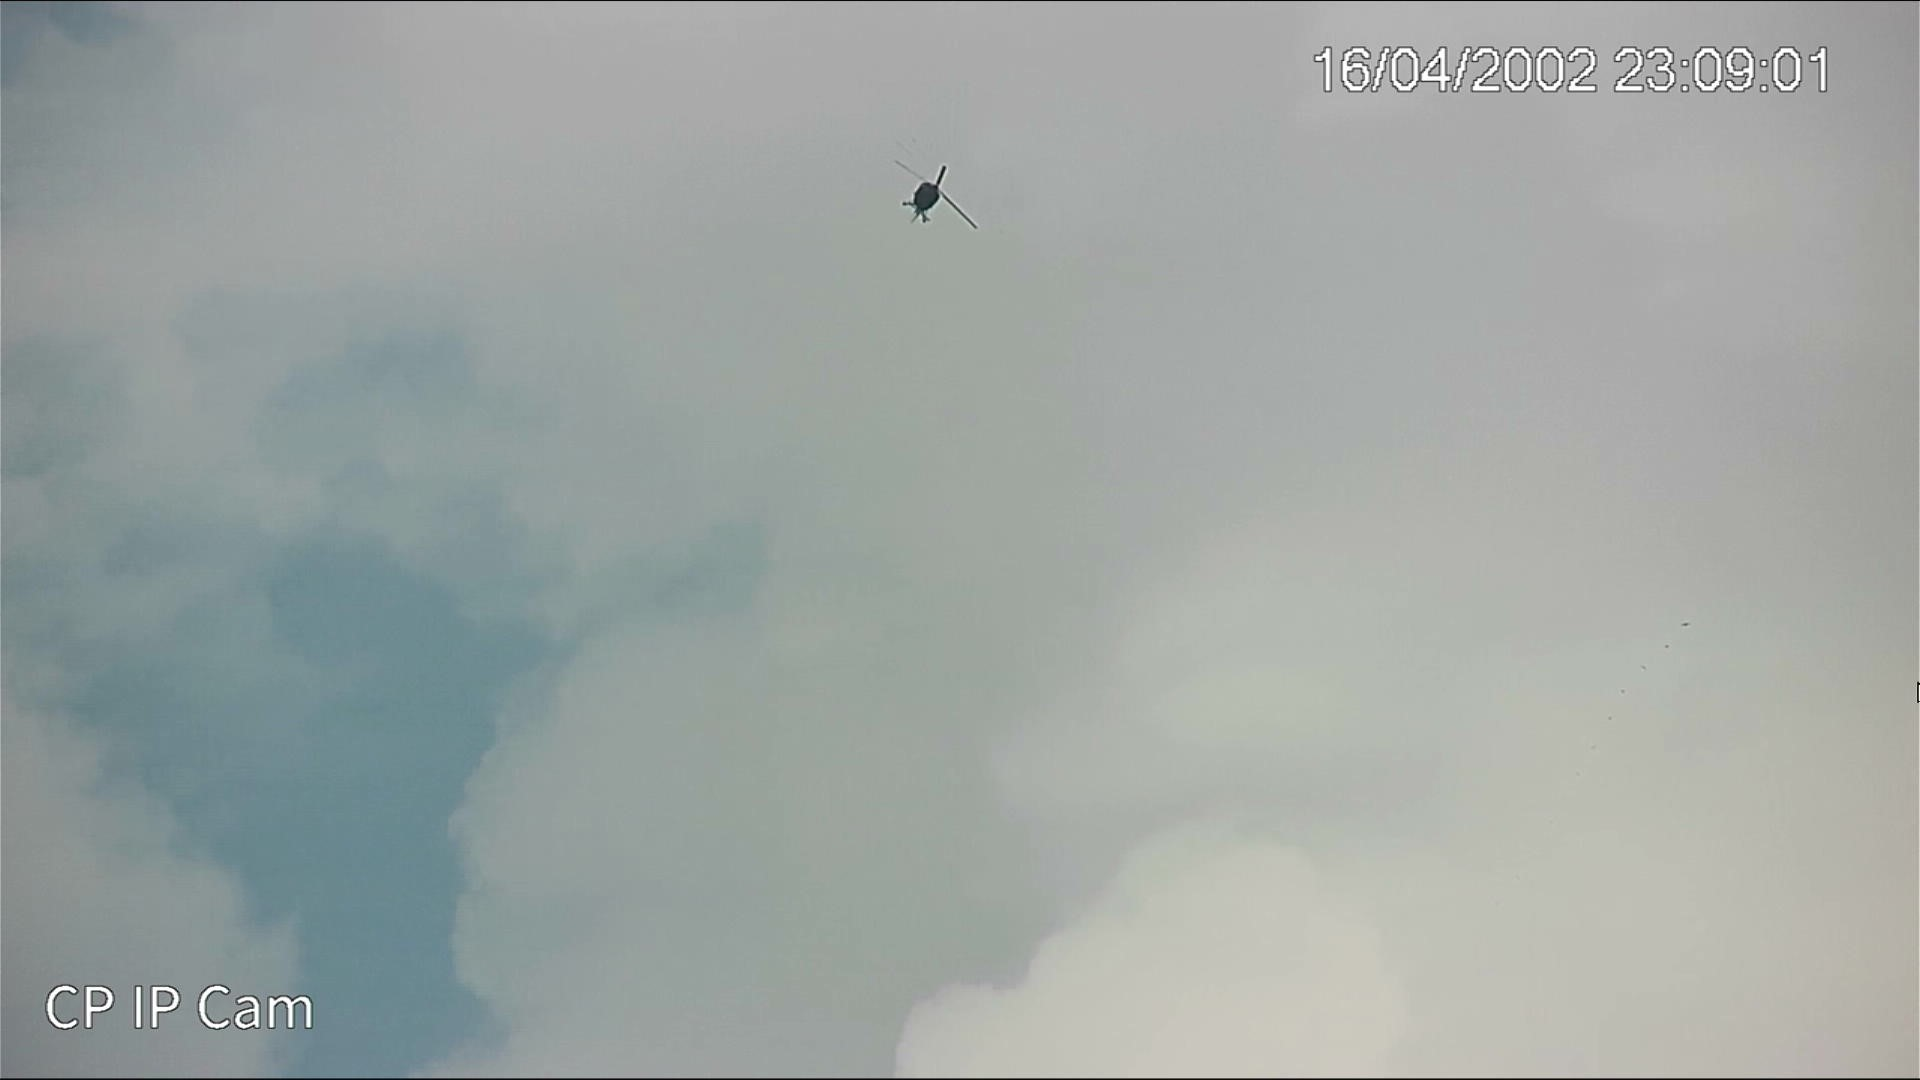SU_30: (898, 167, 952, 235)
